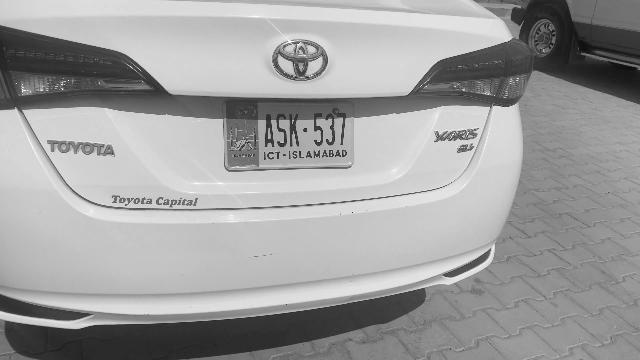Number: (260, 110, 344, 152)
